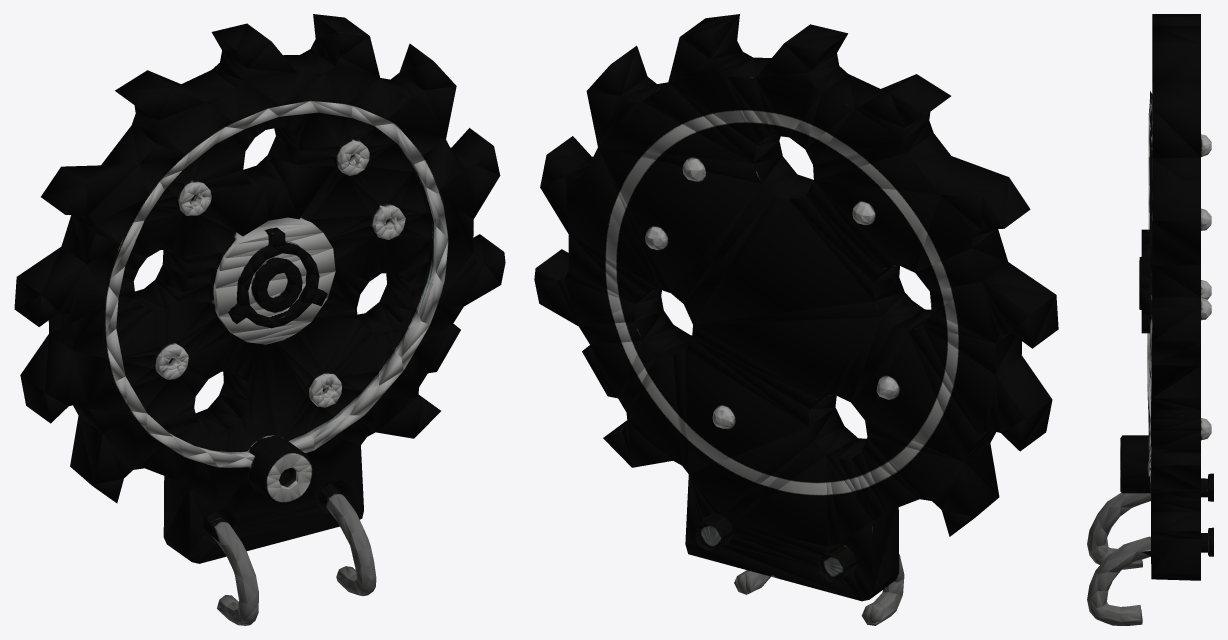
The model's file is wpn_chainsaw.glb.
3 views of the same model, side by side, from view 1: azimuth 30°, elevation 25°; view 2: azimuth 150°, elevation 25°; view 3: azimuth 270°, elevation 25° (orthographic). The views are drawn at different scales.
Parts seen in each view (by area): view 1: tripo_node_1e6ece13; view 2: tripo_node_1e6ece13; view 3: tripo_node_1e6ece13.
Boxes of the visible parts, x1=… form: tripo_node_1e6ece13: x1=14, y1=14, x2=505, y2=625; tripo_node_1e6ece13: x1=534, y1=14, x2=1058, y2=625; tripo_node_1e6ece13: x1=1087, y1=14, x2=1213, y2=625.
Bounding box in the file's own units: 0.8761 × 0.9985 × 0.209.
1 material, 1 textured.
